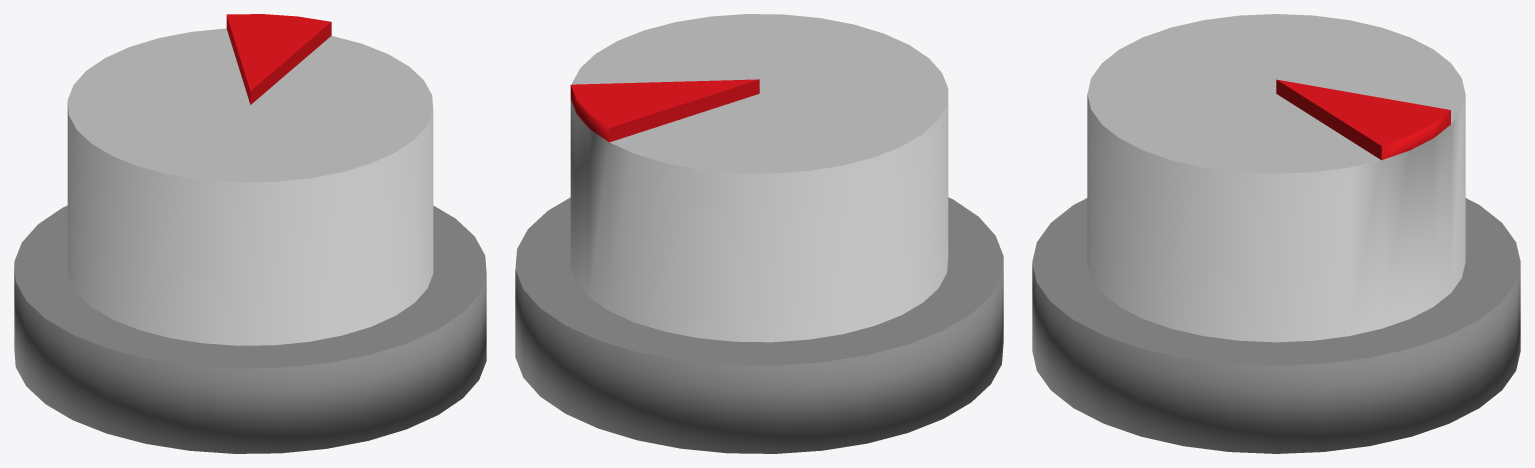
File: control.glb
3 renders of one model, left to right at view 1: azimuth 30°, elevation 25°; view 2: azimuth 150°, elevation 25°; view 3: azimuth 270°, elevation 25°, orthographic. The views are drawn at different scales.
Visible parts, largest first — view 1: control; view 2: control; view 3: control.
Part boxes in pixels (x1,y1,x2,y2): control: [14, 14, 486, 453]; control: [515, 14, 1003, 453]; control: [1032, 14, 1520, 453].
Size of the model in its own units: 0.1217 by 0.0745 by 0.1217.
